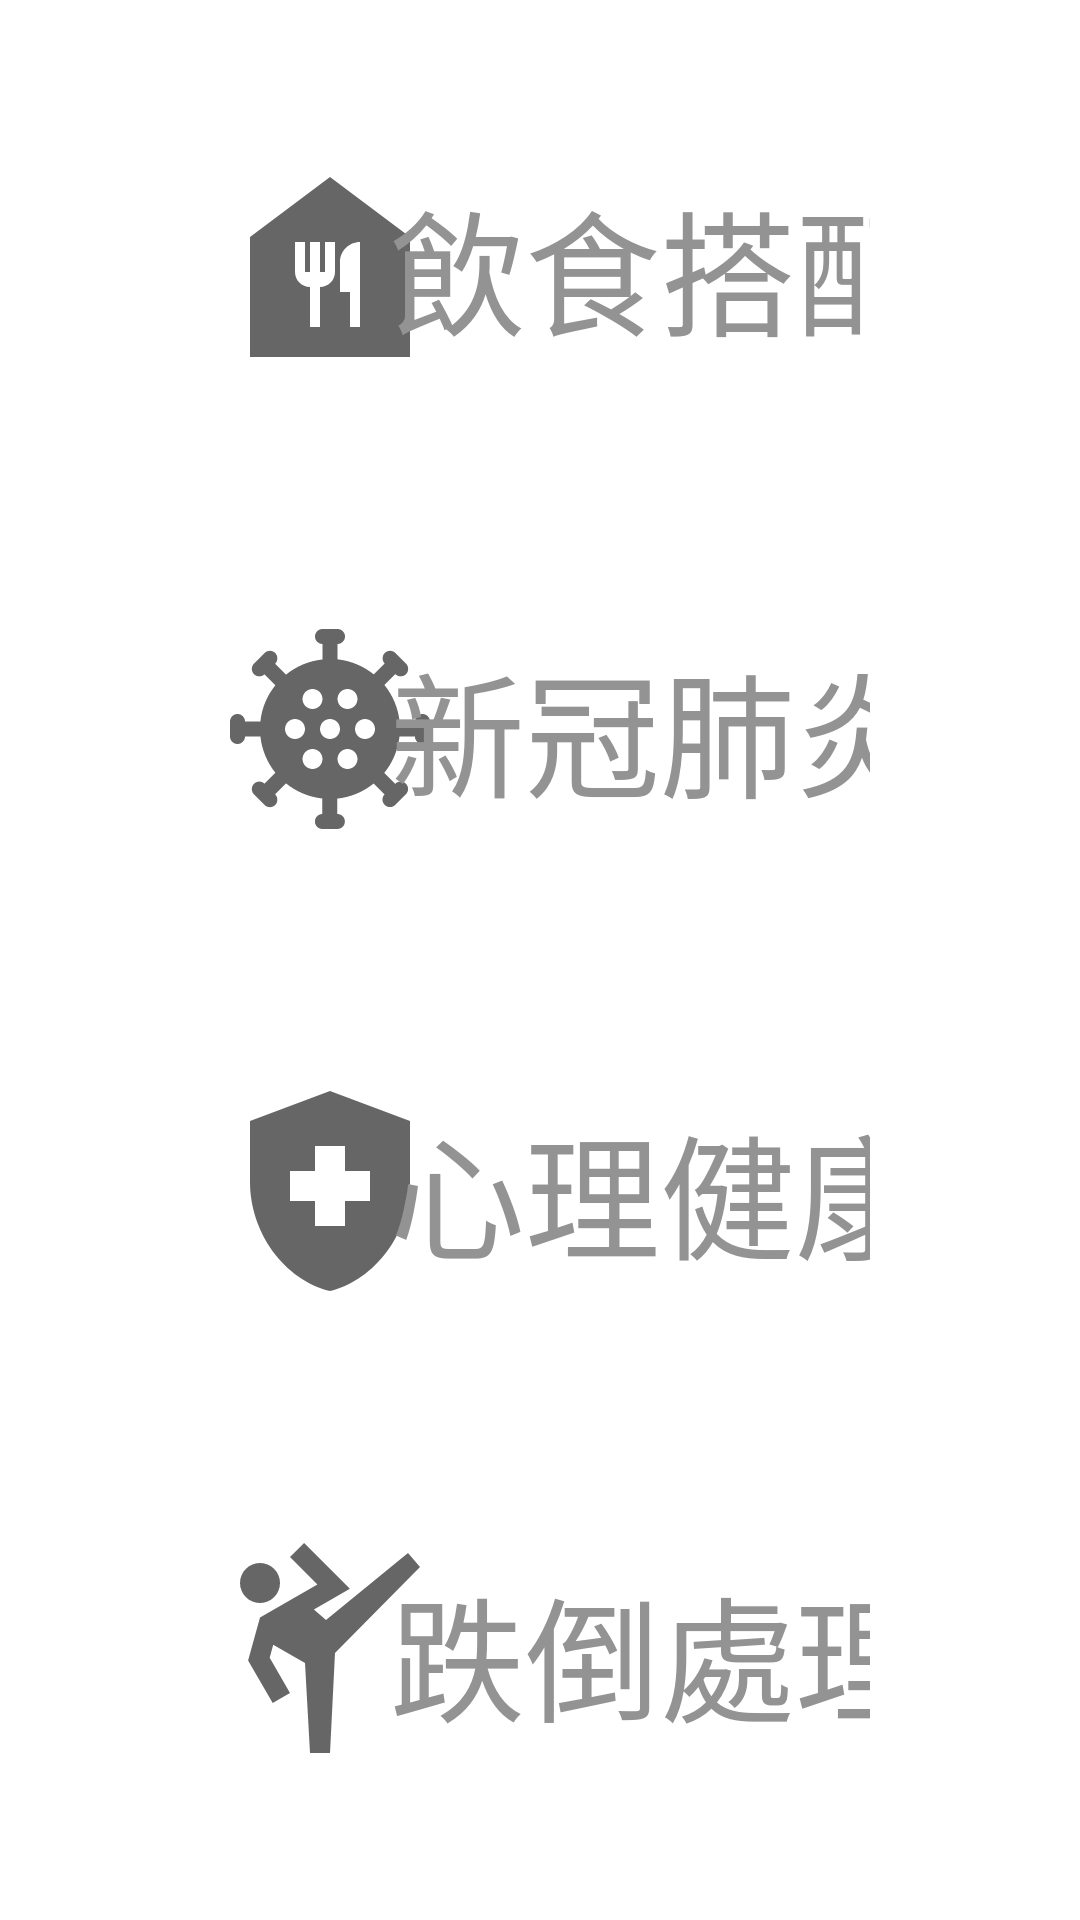

Where to tap for icons on this 1080w x 1920h app screen, as [x,y]:
food: [350,267]
virus: [340,729]
